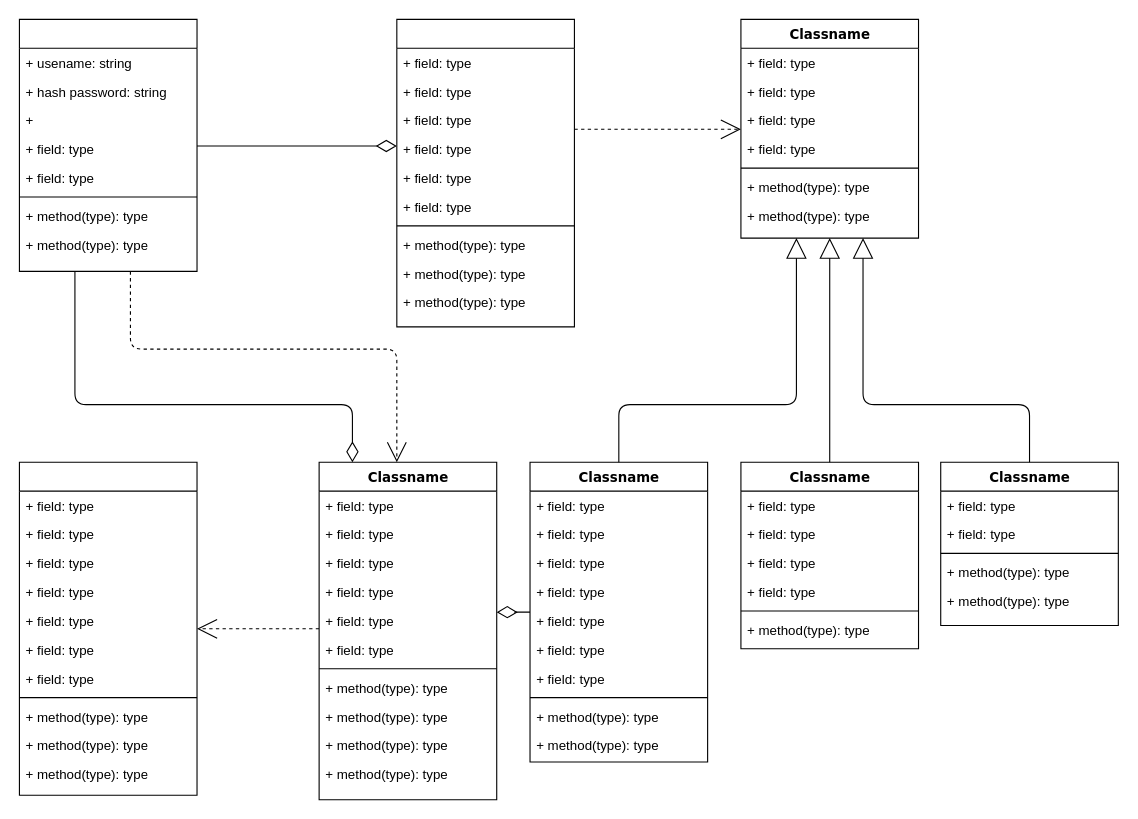
This 1138x819 diagram has some shape labels left out. The shapes that lost their labels are listed below. From the top down, each one's box as (x1, y1, x2, y2) in pixels, then its label:
(18, 18, 197, 271): User
(396, 18, 574, 327): Courses
(18, 461, 197, 795): Document
